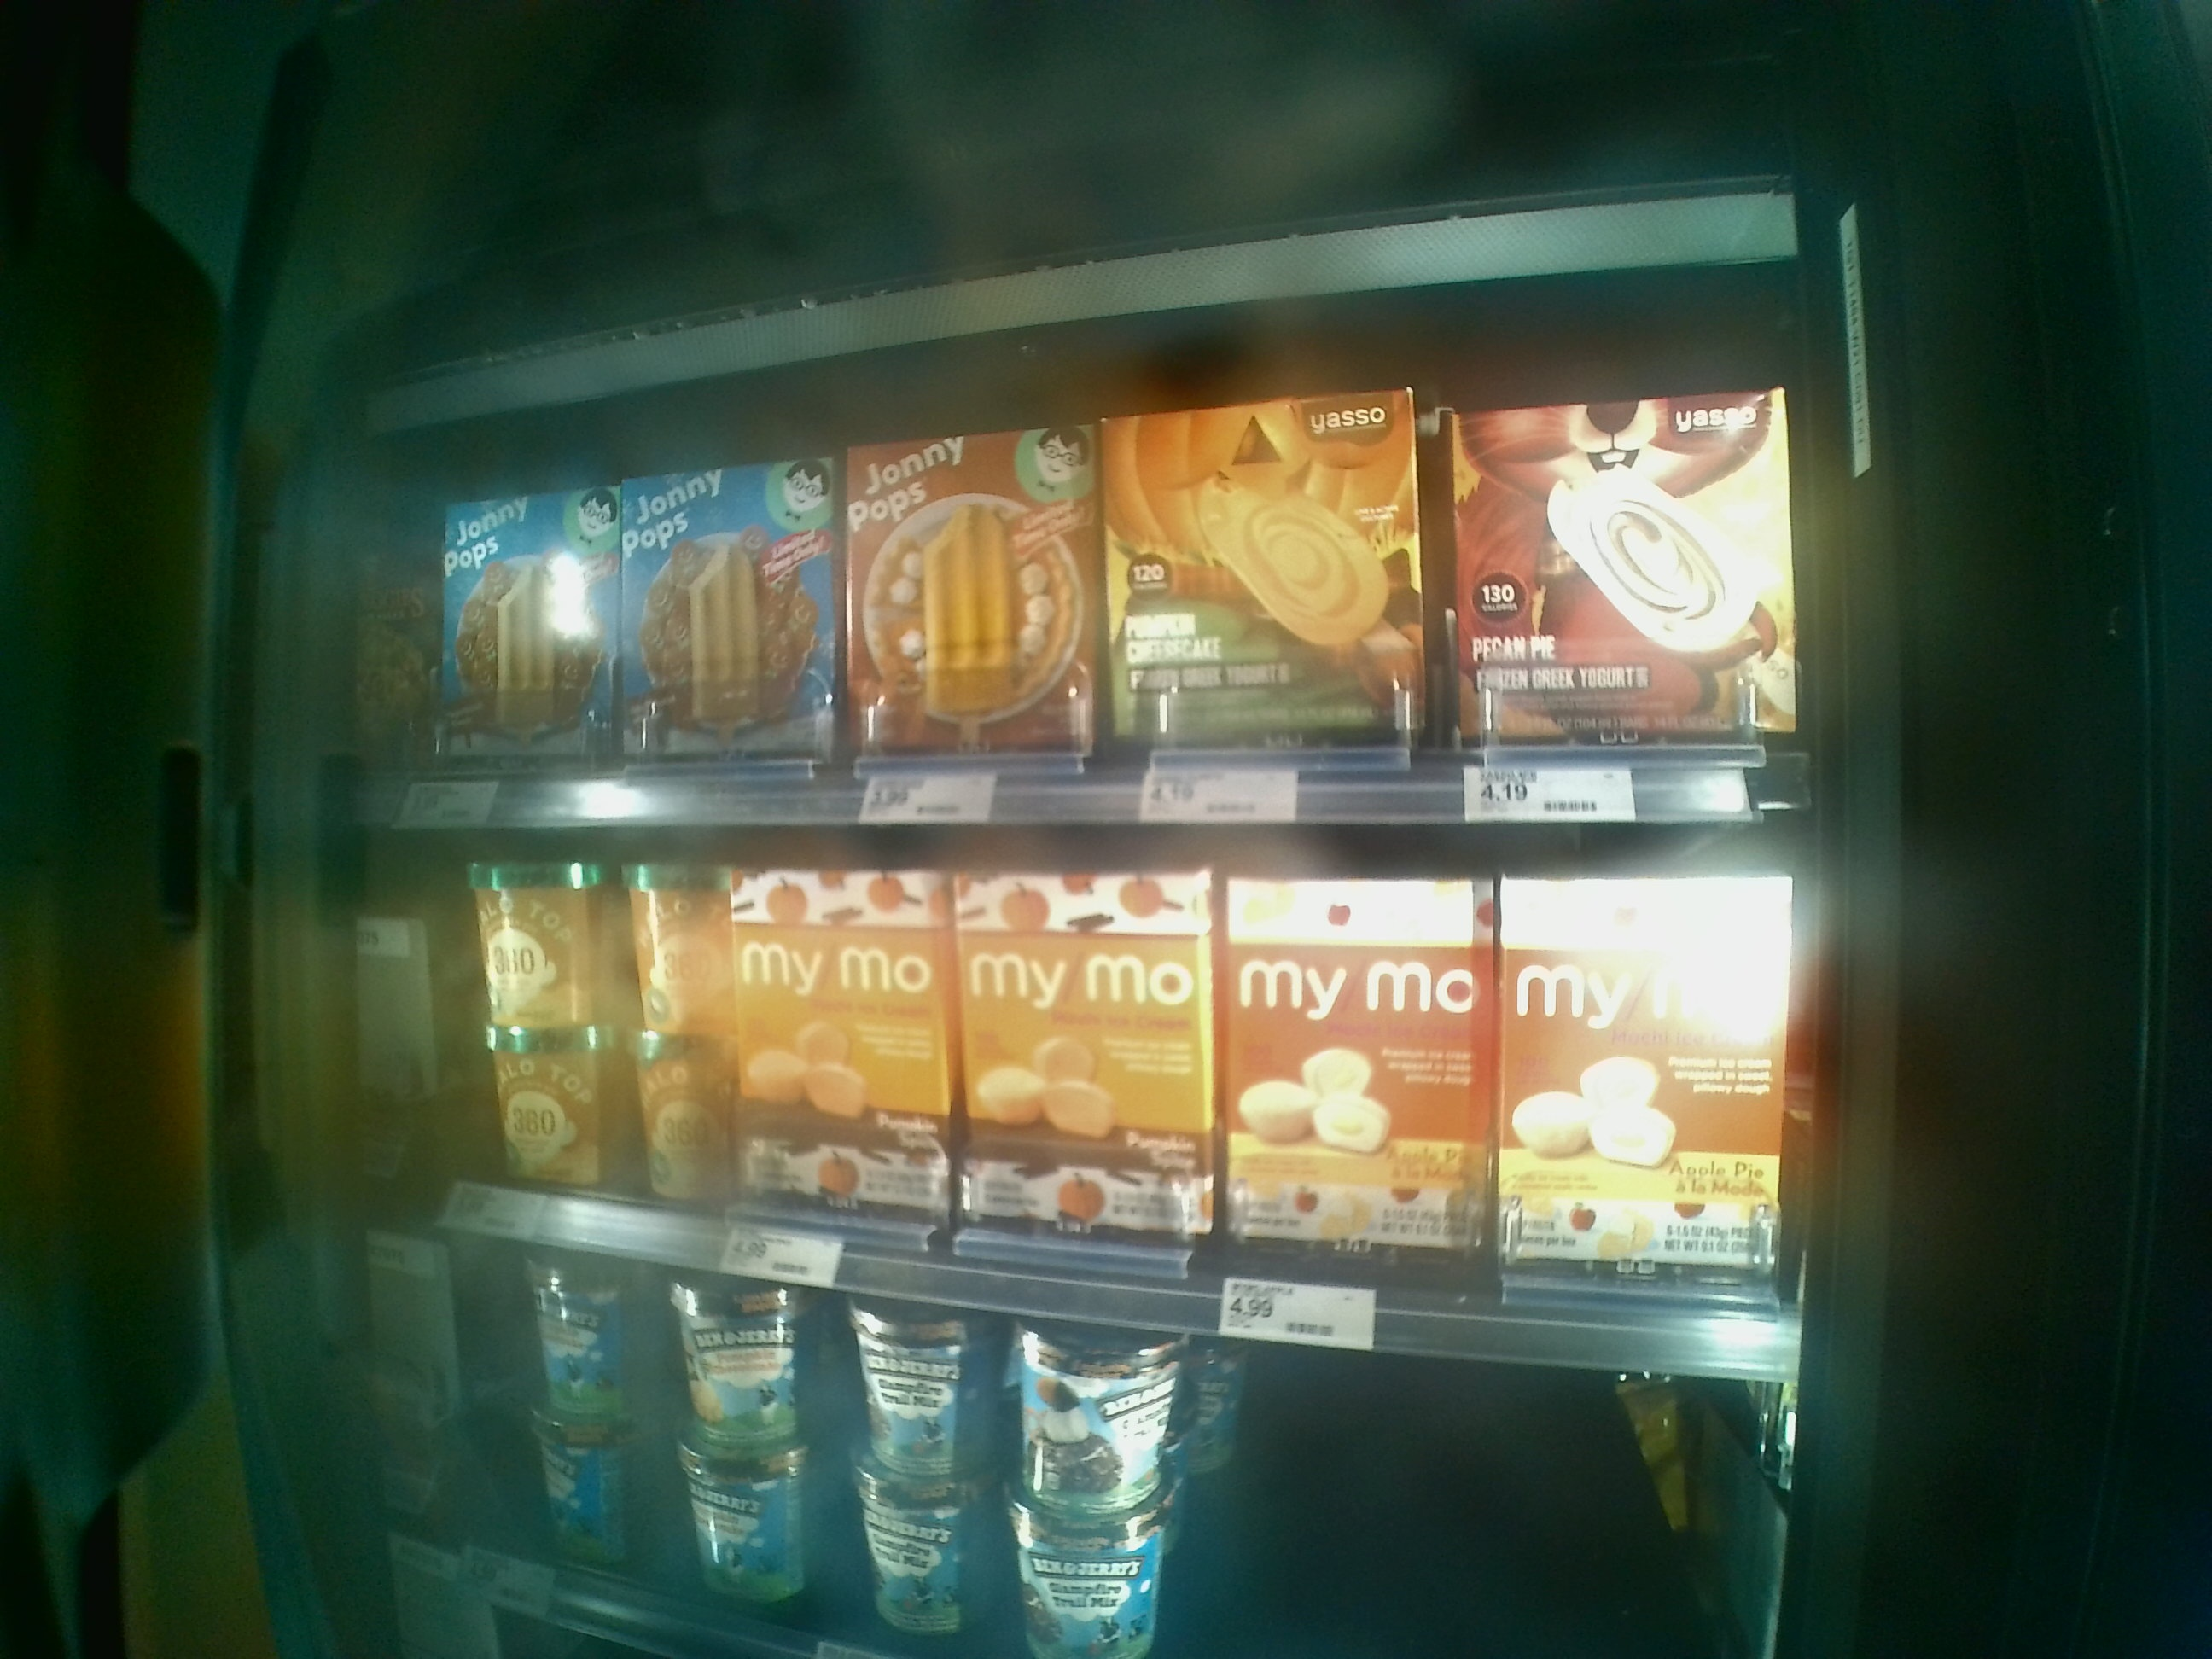shelf: (345, 802, 1806, 1389), (371, 359, 1820, 828)
